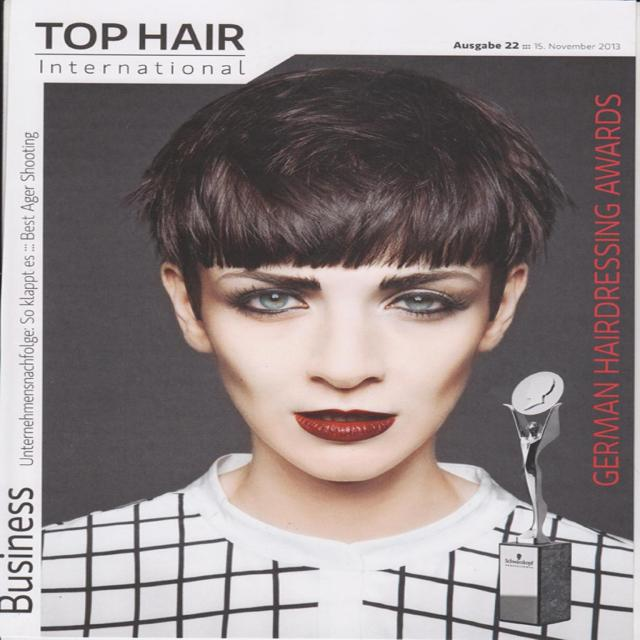nomask: (196, 216, 488, 479)
